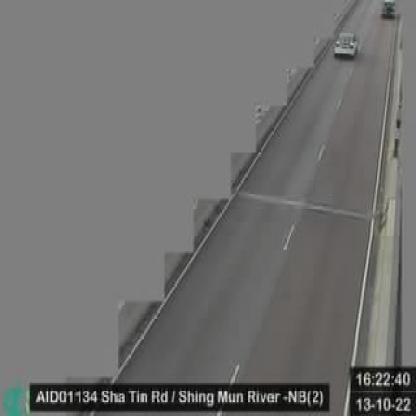Car: (334, 31, 359, 60), (382, 0, 398, 18)
